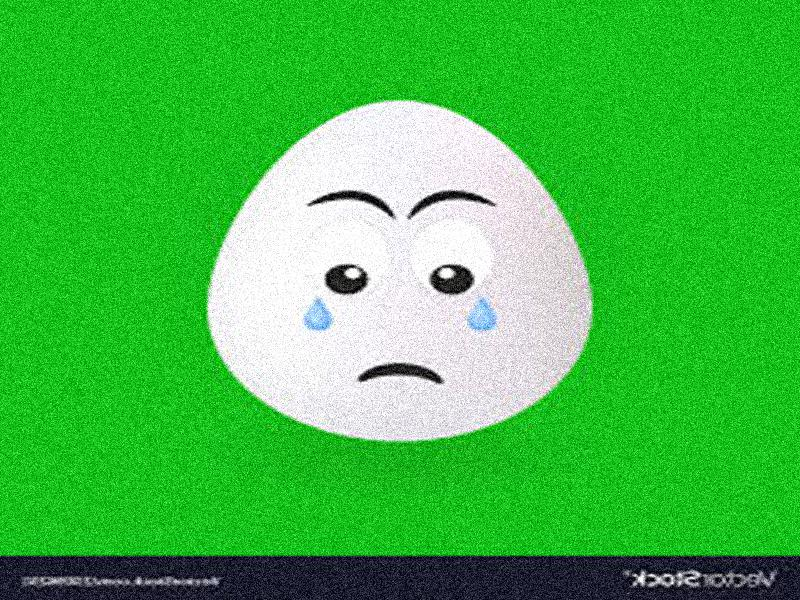Eggs: (210, 103, 595, 440)
